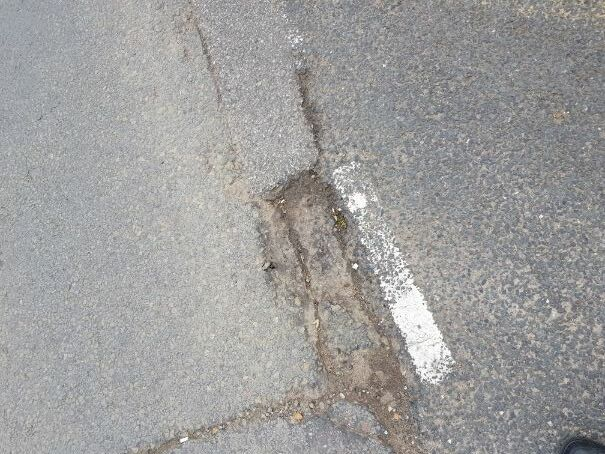pothole: (250, 162, 410, 394)
